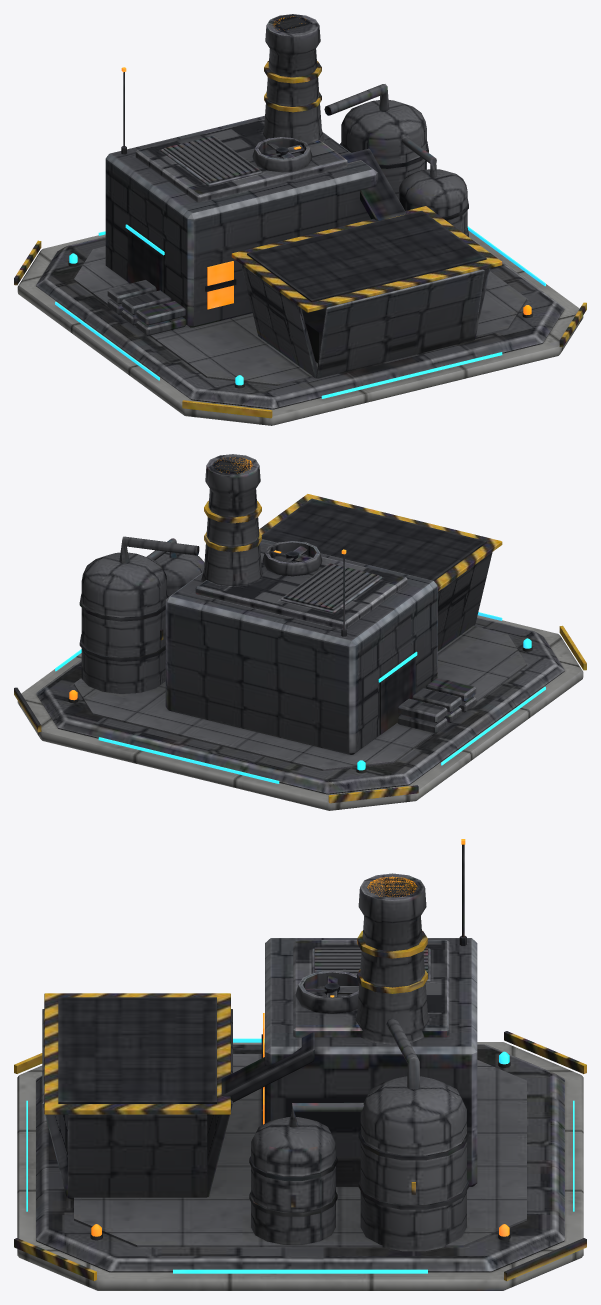
File: terran_metal_station.glb
3 renders of one model, top to bottom at view 1: azimuth 30°, elevation 25°; view 2: azimuth 150°, elevation 25°; view 3: azimuth 270°, elevation 25°, orthographic. The views are drawn at different scales.
Parts seen in each view (by area): view 1: Smelter, Base, Hopper, Tanks, Stack; view 2: Smelter, Base, Hopper, Tanks, Stack; view 3: Base, Hopper, Smelter, Tanks, Stack.
Part boxes in pixels (x1=…): Smelter: x1=105, y1=67, x2=406, y2=335; Base: x1=14, y1=226, x2=586, y2=425; Hopper: x1=231, y1=206, x2=502, y2=378; Tanks: x1=324, y1=84, x2=468, y2=236; Stack: x1=263, y1=14, x2=324, y2=144; Smelter: x1=165, y1=539, x2=476, y2=754; Base: x1=14, y1=612, x2=586, y2=810; Hopper: x1=259, y1=494, x2=502, y2=651; Tanks: x1=79, y1=536, x2=204, y2=693; Stack: x1=201, y1=454, x2=262, y2=586; Base: x1=14, y1=1031, x2=586, y2=1290; Hopper: x1=42, y1=993, x2=230, y2=1198; Smelter: x1=207, y1=839, x2=477, y2=1196; Tanks: x1=249, y1=1018, x2=468, y2=1251; Stack: x1=355, y1=873, x2=429, y2=1044.
Size of the model in its own units: 8.09 by 4.72 by 8.09.
Materials: 1 (1 with a texture image).
